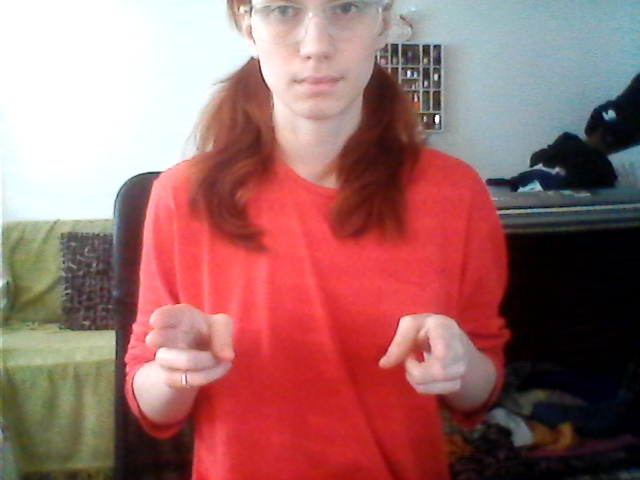ako: (137, 295, 475, 413)
